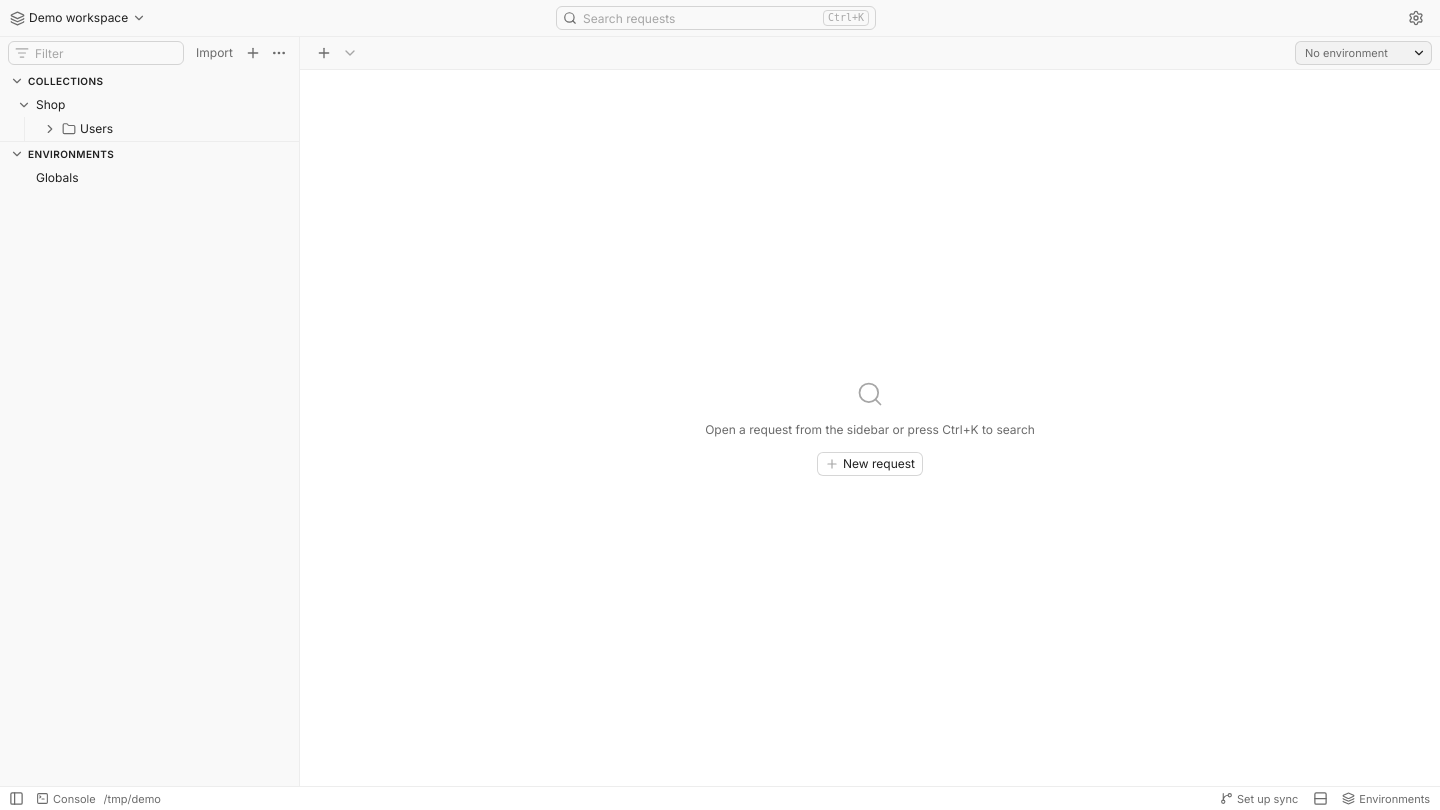
Scenario: opening the Import dialog › opens from the sidebar More menu
The image size is (1440, 810).
Click the button named "More sidebar actions". click: (279,53)
box: [267,41,291,65]
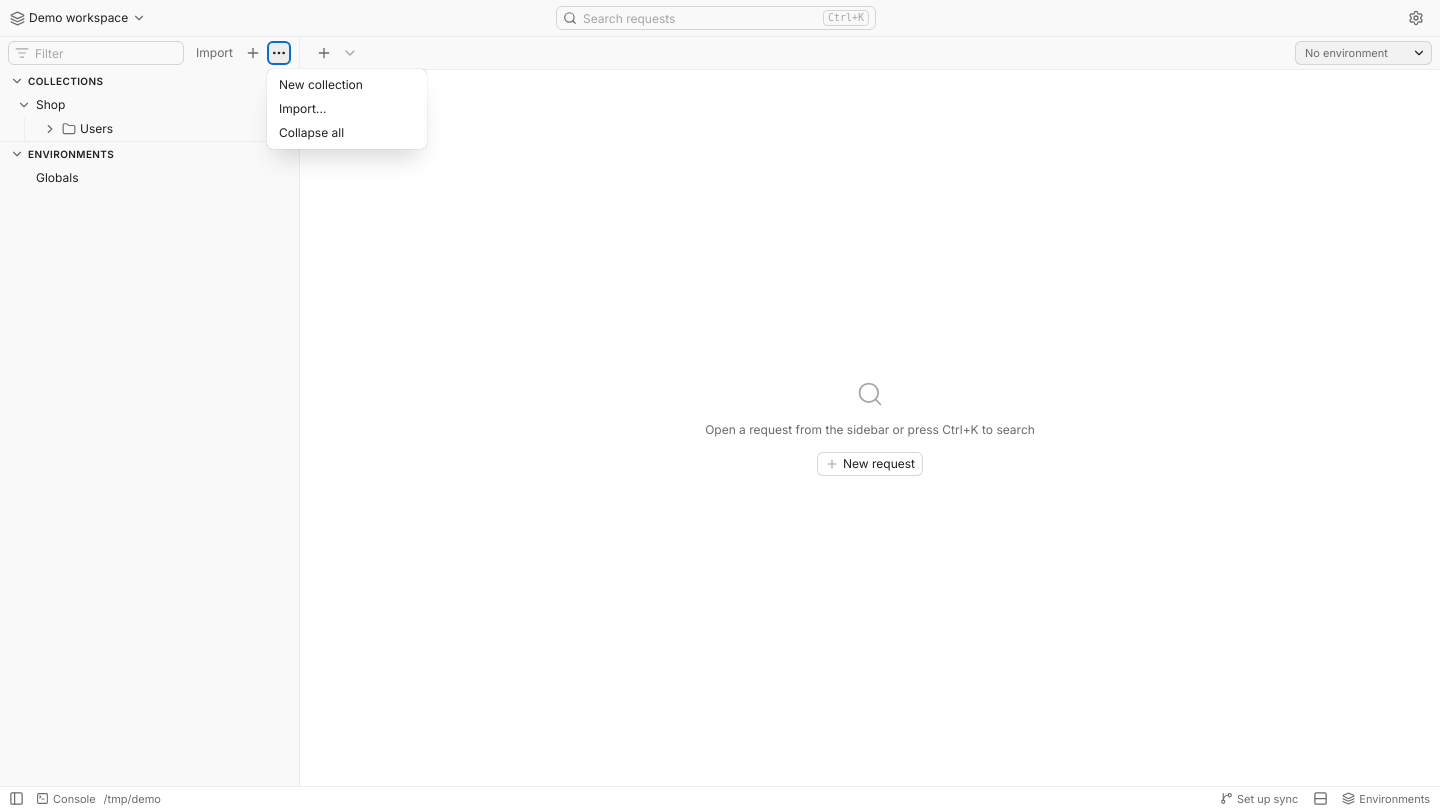
Click the menu item "Import…". click: (347,109)
box: [271,97,423,121]
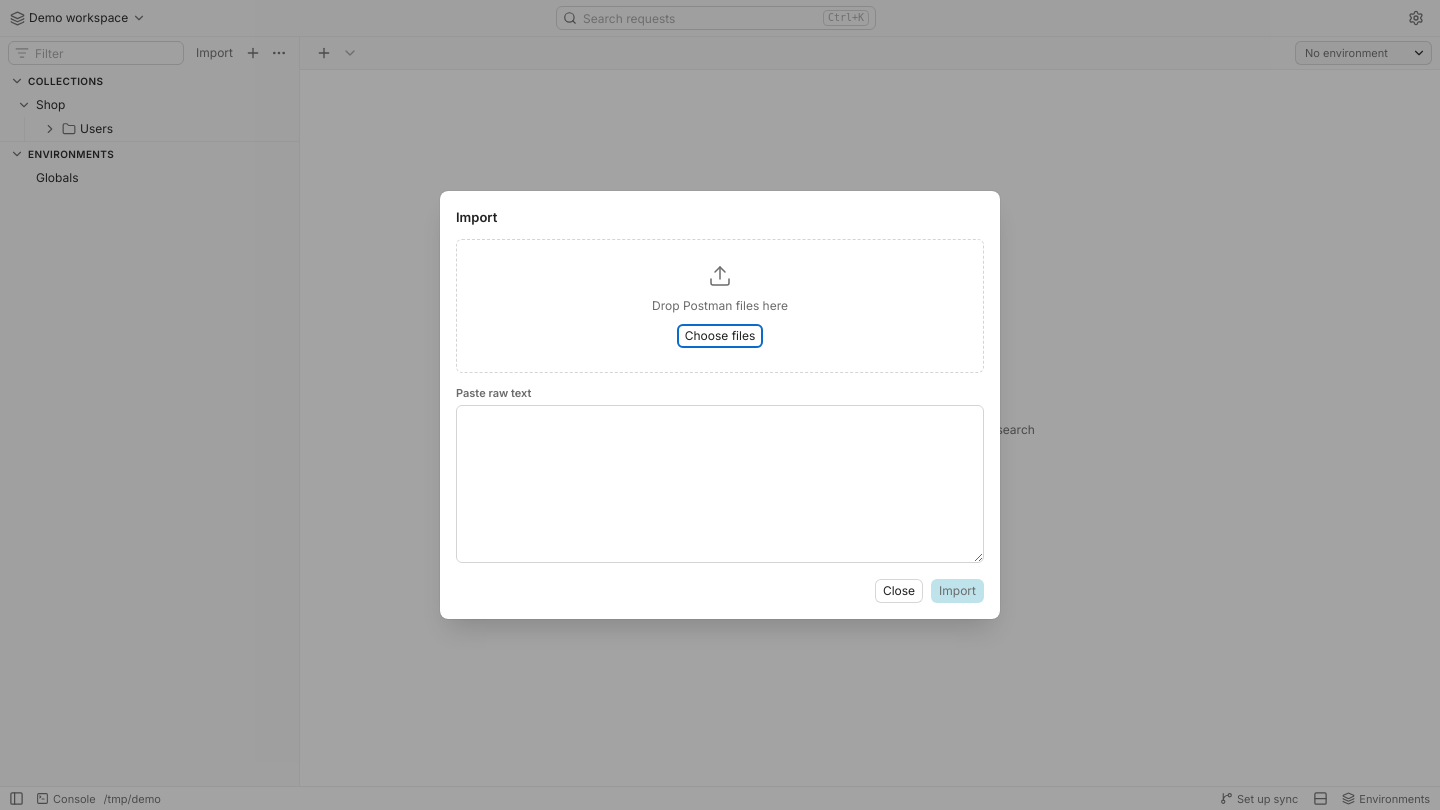
Check: the dialog "Import" is shown, box [440,191,1000,619]
